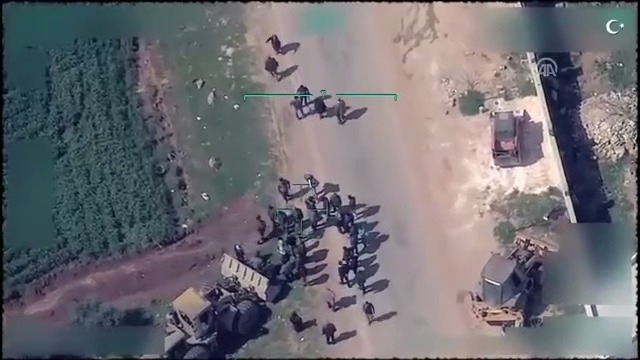arac: (462, 220, 562, 336), (483, 99, 536, 170)
insan: (262, 29, 286, 57), (249, 214, 271, 243), (275, 173, 295, 204), (334, 258, 353, 288), (288, 94, 309, 121), (334, 95, 352, 124), (287, 308, 307, 333), (361, 299, 379, 326), (322, 320, 339, 346), (347, 193, 361, 213)
